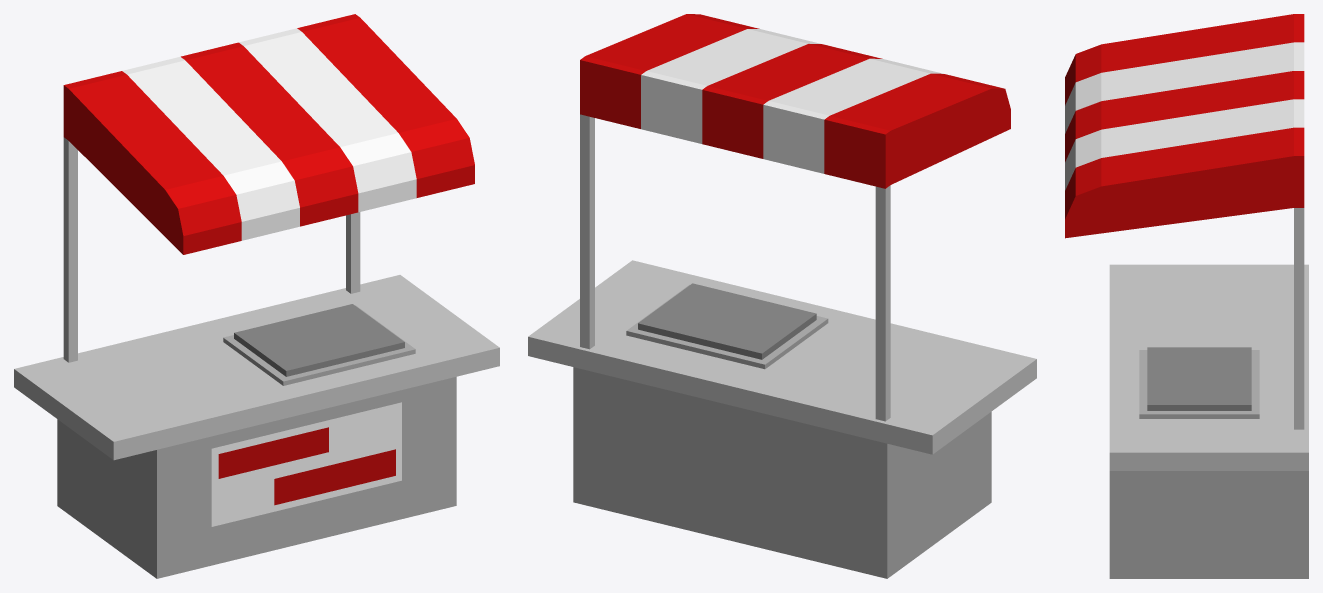
File: foodStall.fbx
3 renders of one model, left to right at view 1: azimuth 30°, elevation 25°; view 2: azimuth 150°, elevation 25°; view 3: azimuth 270°, elevation 25°, orthographic. The views are drawn at different scales.
Visible parts, largest first — view 1: foodStall; view 2: foodStall; view 3: foodStall.
Boxes of the visible parts, x1=… form: foodStall: x1=14, y1=14, x2=499, y2=578; foodStall: x1=528, y1=14, x2=1036, y2=578; foodStall: x1=1065, y1=14, x2=1308, y2=578.
Size of the model in its own units: 447 by 467 by 245.
